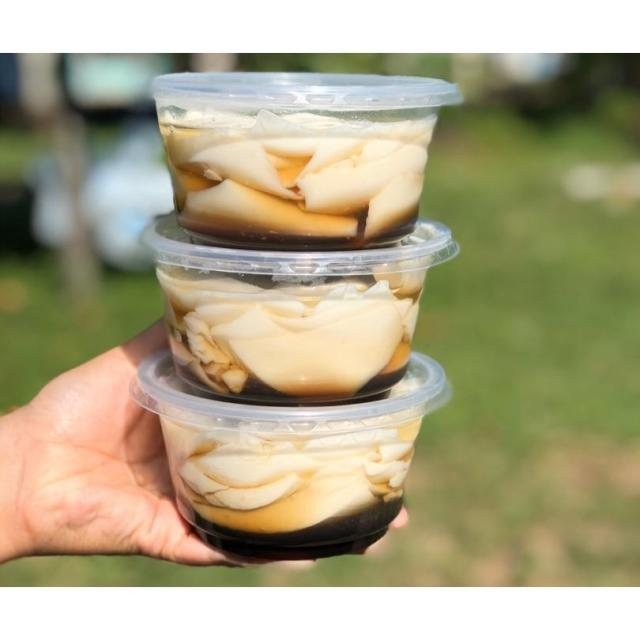plastic: (128, 352, 454, 561), (134, 217, 454, 390), (142, 68, 460, 242)
